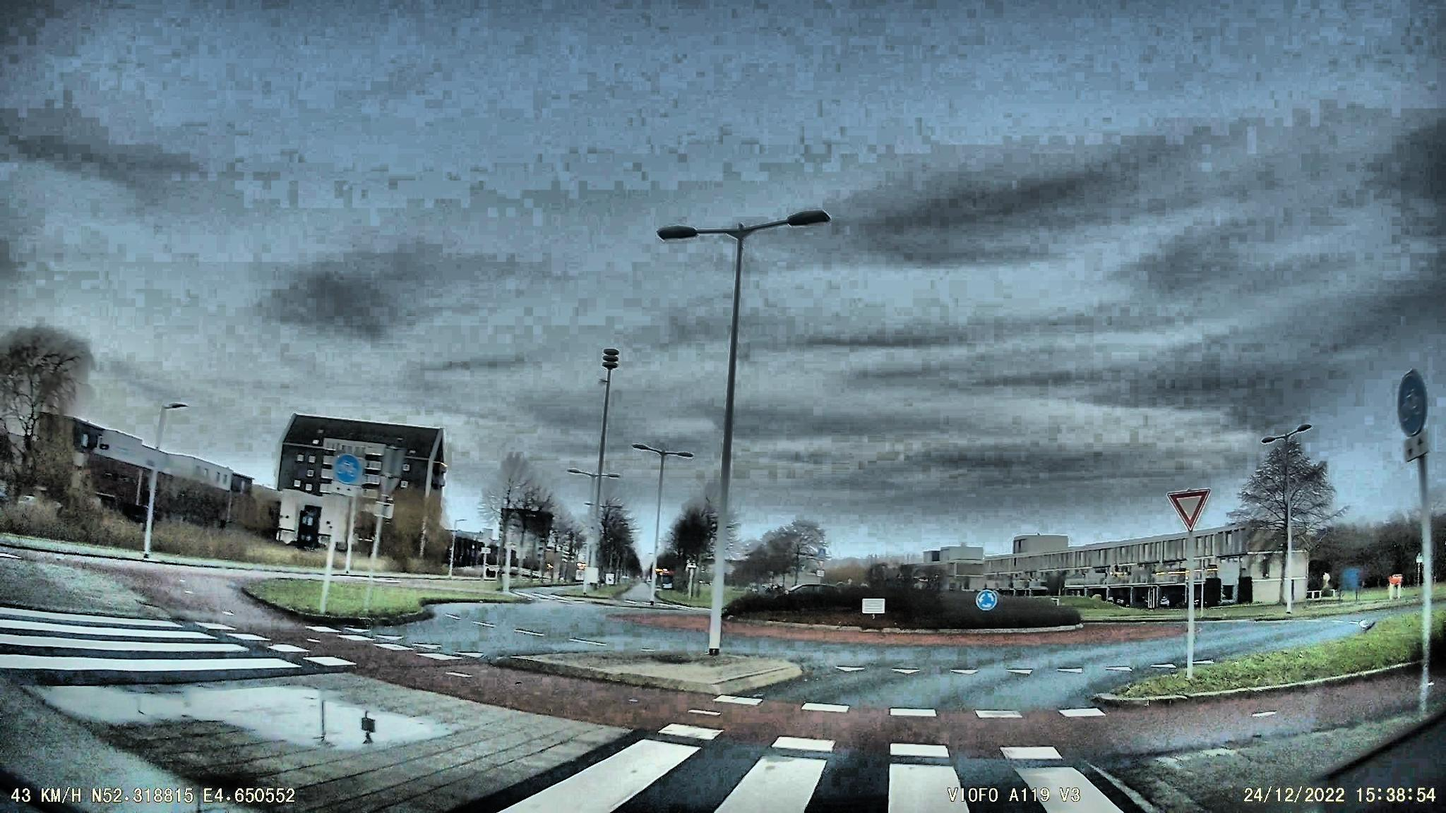Roads: (434, 607, 1375, 813)
